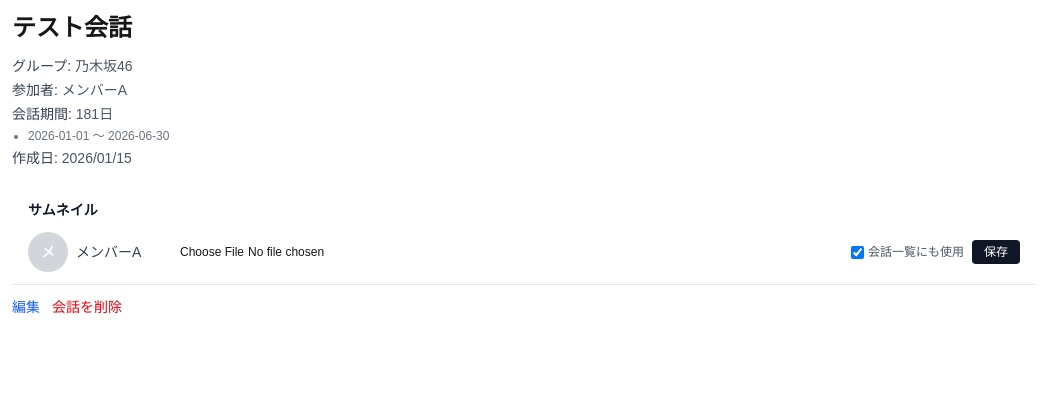
Test: ConversationActions › returns to header view when cancel is clicked
The width and height of the screenshot is (1048, 405).
Click the button "編集": (26, 307) [12,297,40,317]
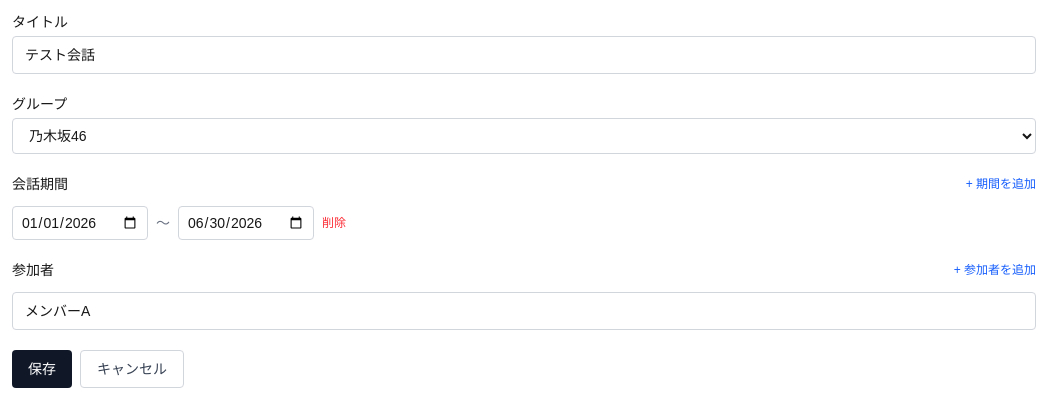
Click the button "キャンセル": (132, 369) [80,350,184,388]
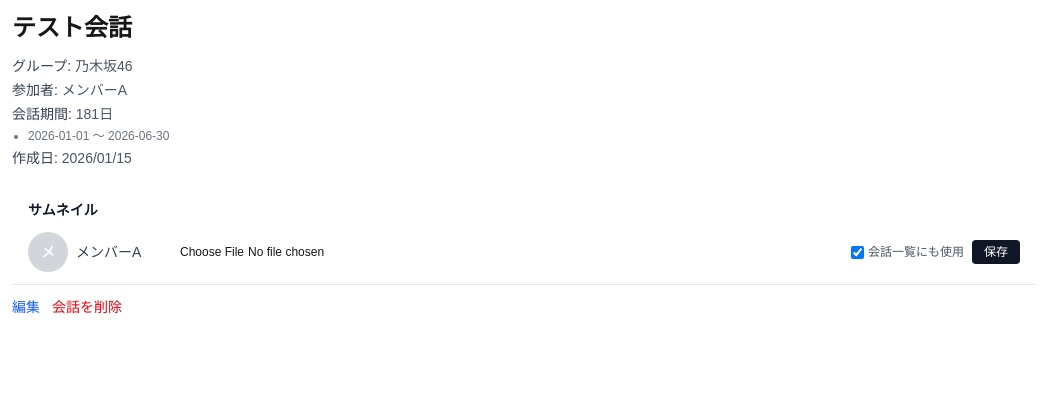
Result: the heading "テスト会話" is shown at [12,14,132,41]
Result: the button "編集" is shown at [12,297,40,317]
